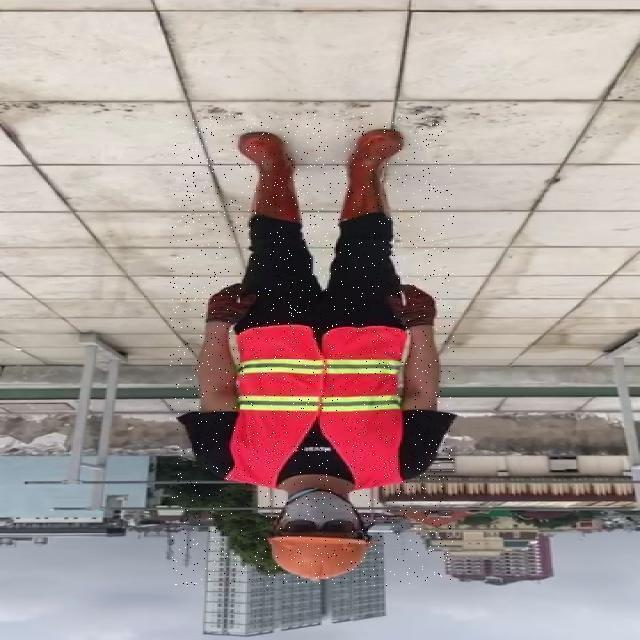Boots: (342, 126, 406, 225), (240, 133, 302, 225)
Gloves: (384, 280, 442, 328), (200, 280, 258, 327)
Helmet: (258, 536, 376, 578)
Vest: (222, 325, 414, 490)
